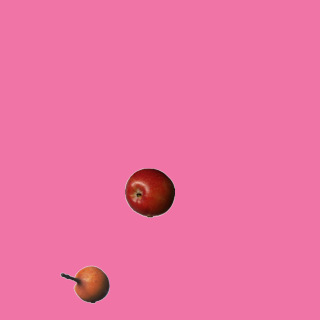Apple Braeburn: (124, 167, 174, 217)
Granadilla: (59, 259, 109, 309)
